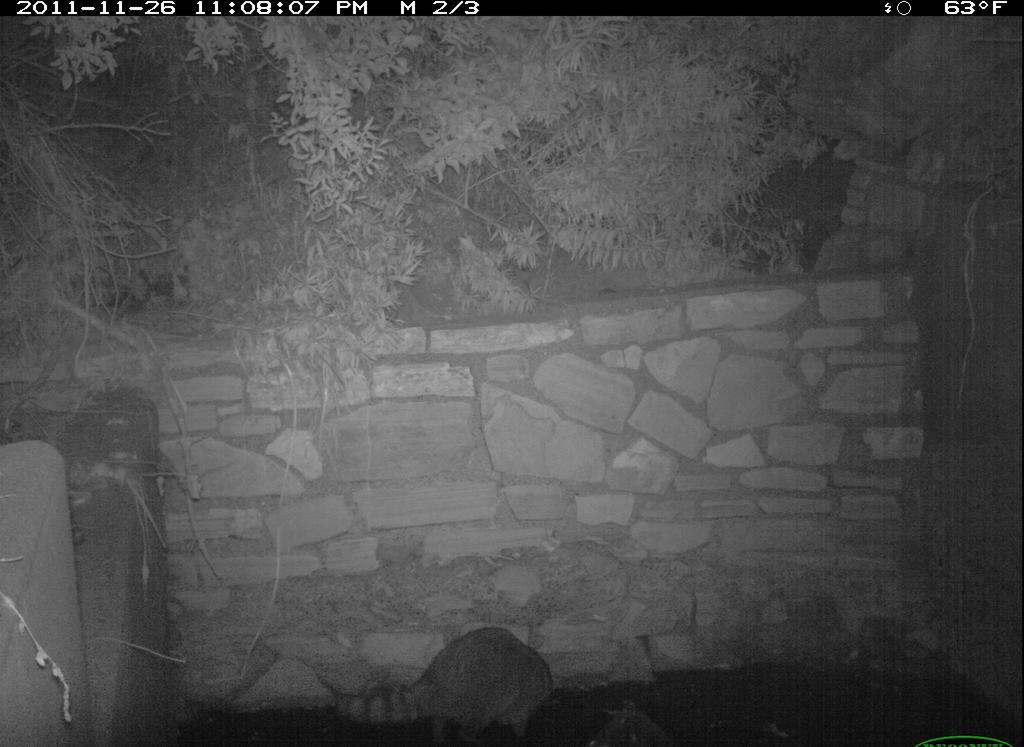raccoon: (317, 619, 553, 747)
